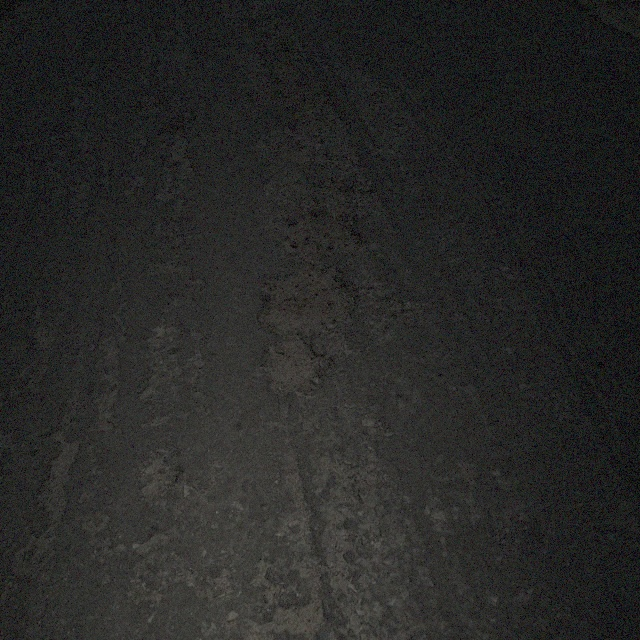pothole: (252, 262, 362, 334), (260, 41, 337, 139), (268, 209, 366, 259), (258, 332, 329, 400), (34, 427, 84, 522), (263, 595, 328, 637), (134, 452, 180, 501)
